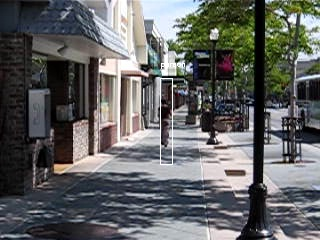person: (157, 98, 174, 149), (156, 98, 173, 149), (158, 98, 175, 149), (157, 97, 174, 148), (157, 99, 174, 150)
target_negative: (25, 5, 144, 171), (191, 88, 235, 171), (74, 196, 129, 237), (174, 221, 237, 237), (230, 192, 246, 219)
